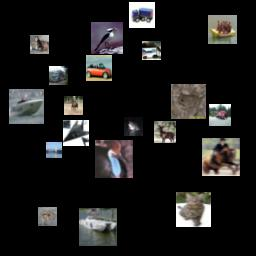airplane: (63, 120, 89, 146)
automobile: (86, 55, 112, 81)
bird: (95, 140, 133, 178), (91, 22, 123, 54)
cat: (176, 192, 211, 227)
deer: (154, 121, 176, 143), (38, 207, 57, 226)
dog: (30, 35, 49, 54)
frog: (171, 84, 206, 119), (124, 117, 143, 136)
ship: (79, 208, 117, 246), (9, 89, 44, 124), (208, 15, 237, 44), (46, 142, 62, 158)
truck: (129, 2, 155, 28), (209, 104, 231, 126), (142, 41, 161, 60), (49, 66, 68, 85)
